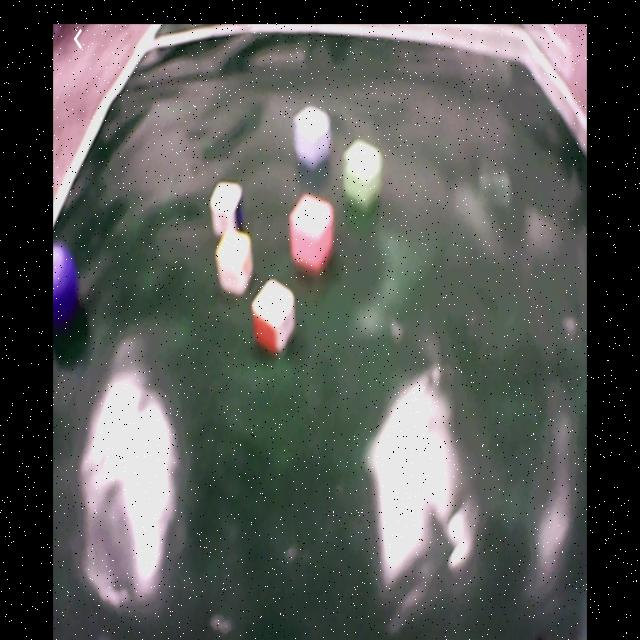ball: (54, 243, 80, 323)
